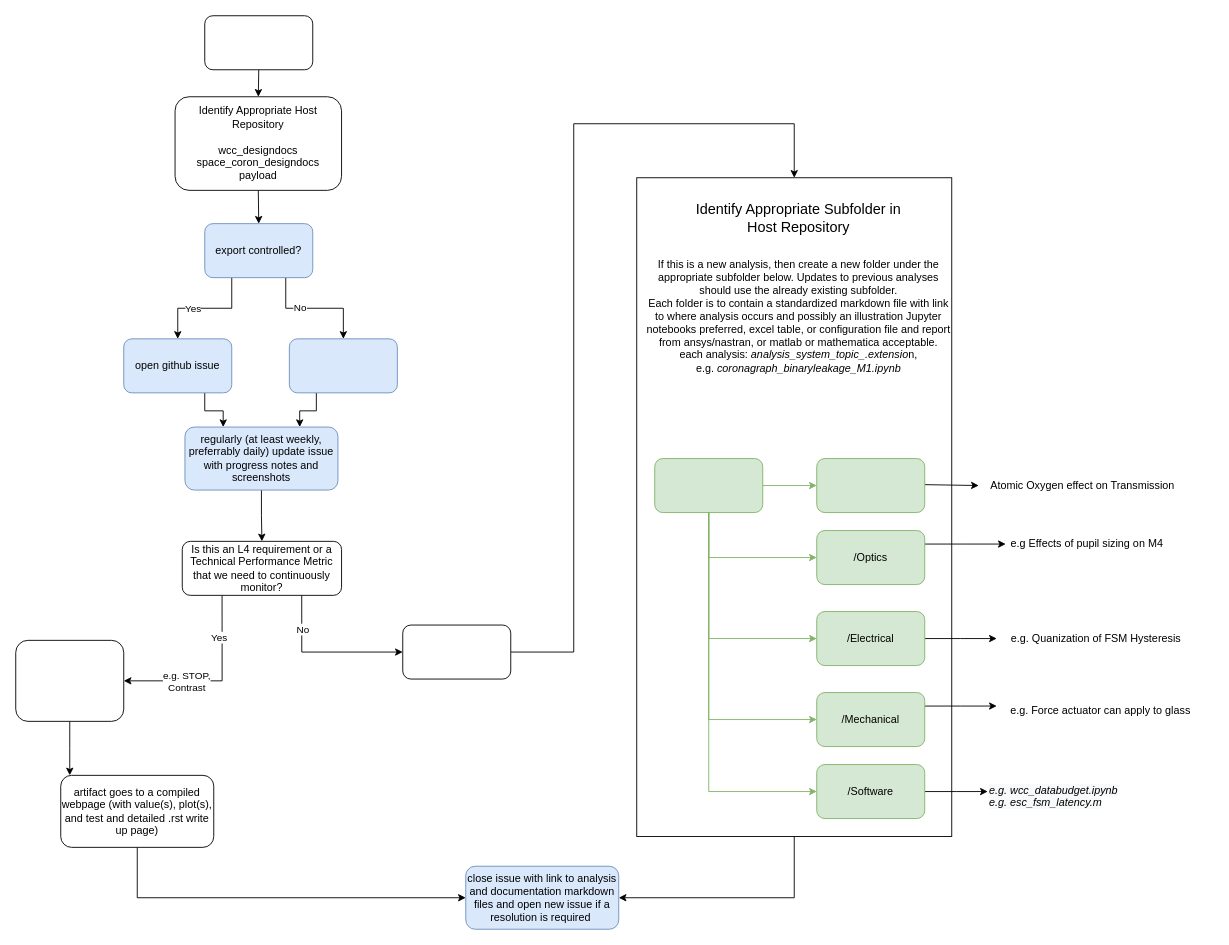
Image size: 1229x945. Some labels were removed from this diagram. Here are the shapes that lost their labels. From the top down, the box of each, then its label:
(204, 15, 313, 70): Commencement of Analysis, Trade, Impact Assessment
(288, 338, 397, 393): open gitlab issue
(654, 458, 763, 513): /Analysis/
(816, 458, 925, 513): /Science
(402, 624, 511, 679): Perform Analysis
(15, 639, 124, 721): Separate performance value calculated in script in budgets repo (.py not ipynb)
